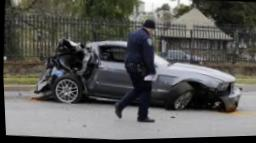Bumper: (226, 86, 241, 111)
Dickey: (43, 41, 89, 81)
Fender: (169, 77, 223, 109)
